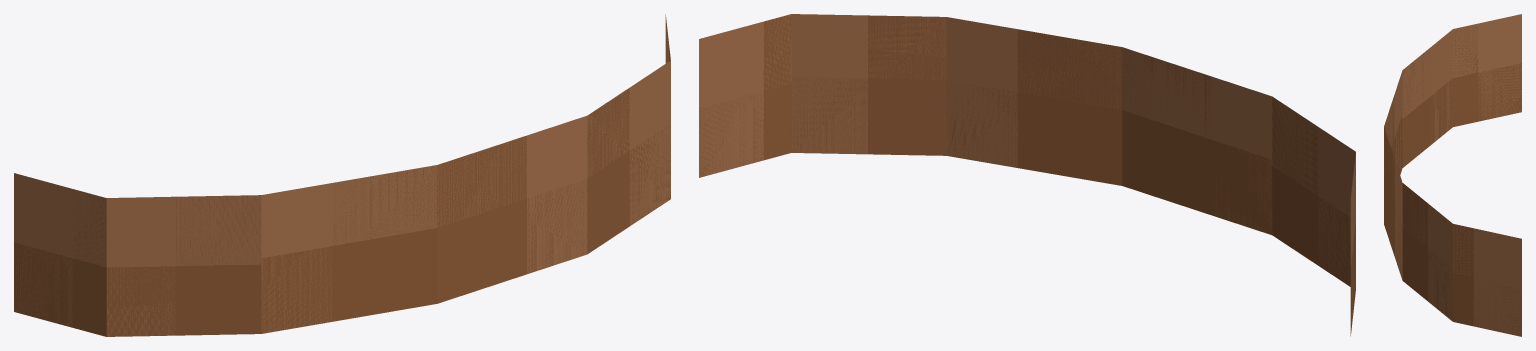
Rendered from SlingshotSling.obj.
3 renders of one model, left to right at view 1: azimuth 30°, elevation 25°; view 2: azimuth 150°, elevation 25°; view 3: azimuth 270°, elevation 25°, orthographic. The views are drawn at different scales.
Parts seen in each view (by area): view 1: torus; view 2: torus; view 3: torus.
Boxes of the visible parts, x1=… form: torus: x1=14, y1=14, x2=670, y2=336; torus: x1=699, y1=14, x2=1355, y2=336; torus: x1=1384, y1=14, x2=1521, y2=336.
Size of the model in its own units: 0.675 by 0.1375 by 0.175.
Materials: 1 (1 with a texture image).
